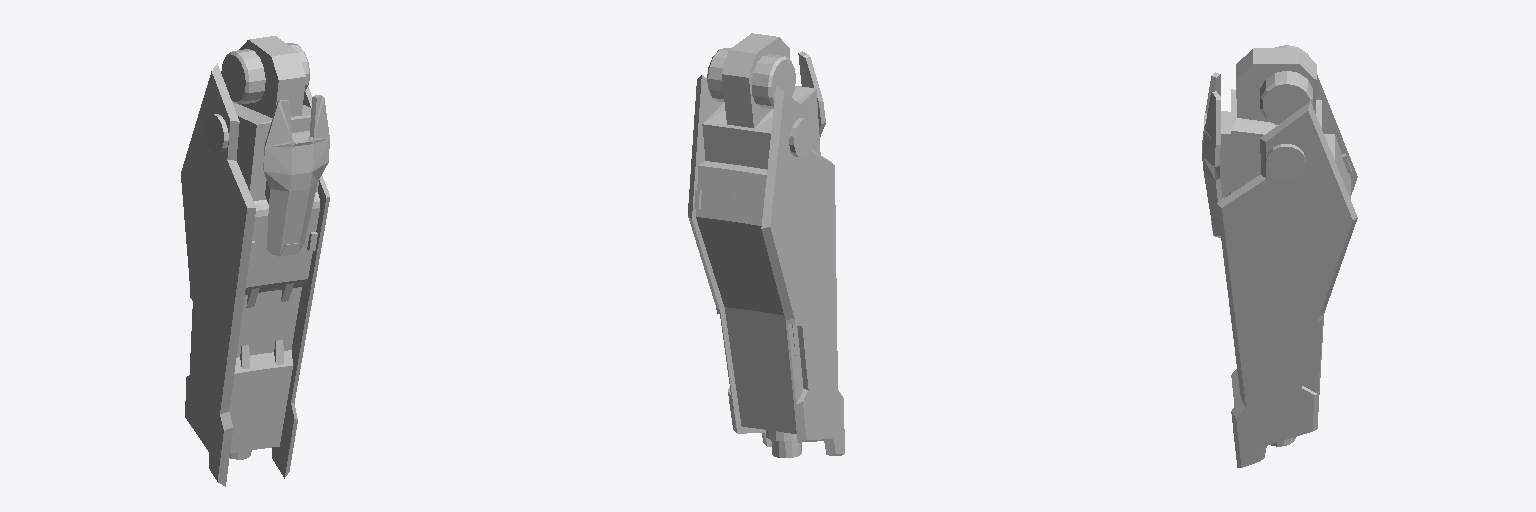
3 renders of one model, left to right at view 1: azimuth 30°, elevation 25°; view 2: azimuth 150°, elevation 25°; view 3: azimuth 270°, elevation 25°, orthographic.
Visible parts, largest first — view 1: S2 legs polySurface62, S2 legs polySurface59, S2 legs polySurface14, S2 legs polySurface41, S2 legs polySurface63, S2 legs polySurface35, S2 legs polySurface16; view 2: S2 legs polySurface62, S2 legs polySurface59, S2 legs polySurface41, S2 legs polySurface63, S2 legs polySurface35, S2 legs polySurface16, S2 legs polySurface14; view 3: S2 legs polySurface63, S2 legs polySurface41, S2 legs polySurface14, S2 legs polySurface35, S2 legs polySurface16, S2 legs polySurface62, S2 legs polySurface18, S2 legs polySurface59.
Part boxes in pixels (x1,y1,x2,y2): S2 legs polySurface62: (181, 63, 255, 486); S2 legs polySurface59: (229, 192, 319, 452); S2 legs polySurface14: (263, 95, 329, 256); S2 legs polySurface41: (232, 36, 318, 200); S2 legs polySurface63: (272, 86, 329, 478); S2 legs polySurface35: (221, 43, 309, 104); S2 legs polySurface16: (204, 114, 228, 152); S2 legs polySurface62: (761, 86, 844, 455); S2 legs polySurface59: (696, 161, 796, 433); S2 legs polySurface41: (702, 33, 820, 169); S2 legs polySurface63: (688, 75, 771, 446); S2 legs polySurface35: (707, 48, 795, 108); S2 legs polySurface16: (789, 118, 813, 157); S2 legs polySurface14: (798, 51, 825, 136); S2 legs polySurface63: (1217, 101, 1357, 467); S2 legs polySurface41: (1231, 48, 1321, 191); S2 legs polySurface14: (1202, 72, 1223, 237); S2 legs polySurface35: (1260, 45, 1312, 124); S2 legs polySurface16: (1266, 144, 1305, 179); S2 legs polySurface62: (1224, 75, 1357, 406); S2 legs polySurface18: (1219, 111, 1232, 197); S2 legs polySurface59: (1226, 134, 1350, 327).
Bounding box in the file's own units: 15.28 × 52.78 × 17.84.